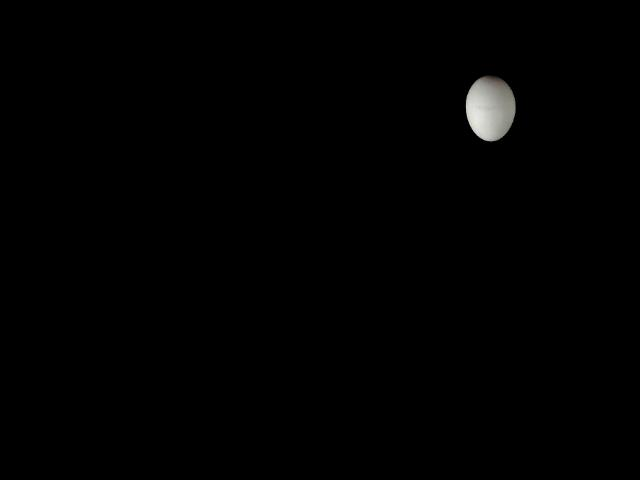egg: (464, 74, 515, 141)
